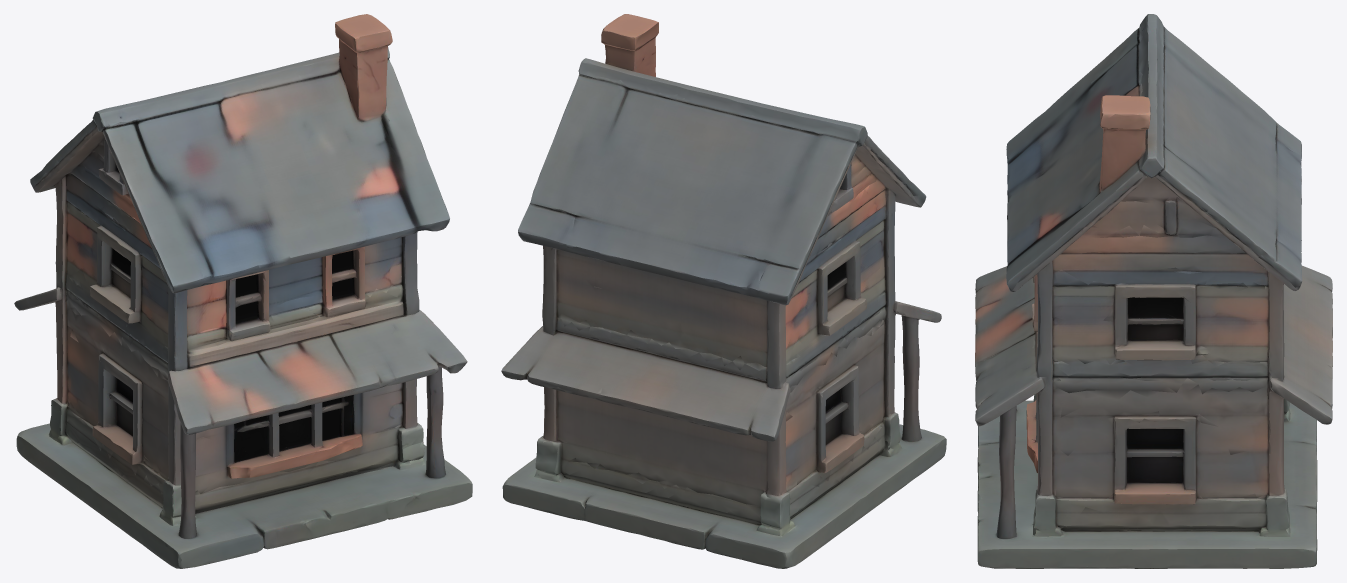
Rendered from house_old.glb.
3 renders of one model, left to right at view 1: azimuth 30°, elevation 25°; view 2: azimuth 150°, elevation 25°; view 3: azimuth 270°, elevation 25°, orthographic. The views are drawn at different scales.
Parts seen in each view (by area): view 1: Mesh; view 2: Mesh; view 3: Mesh.
Part boxes in pixels (x1,y1,x2,y2): Mesh: [14, 14, 472, 568]; Mesh: [501, 14, 946, 568]; Mesh: [975, 14, 1332, 568].
Bounding box in the file's own units: 1.35 × 1.89 × 1.38.
Materials: 1 (1 with a texture image).
